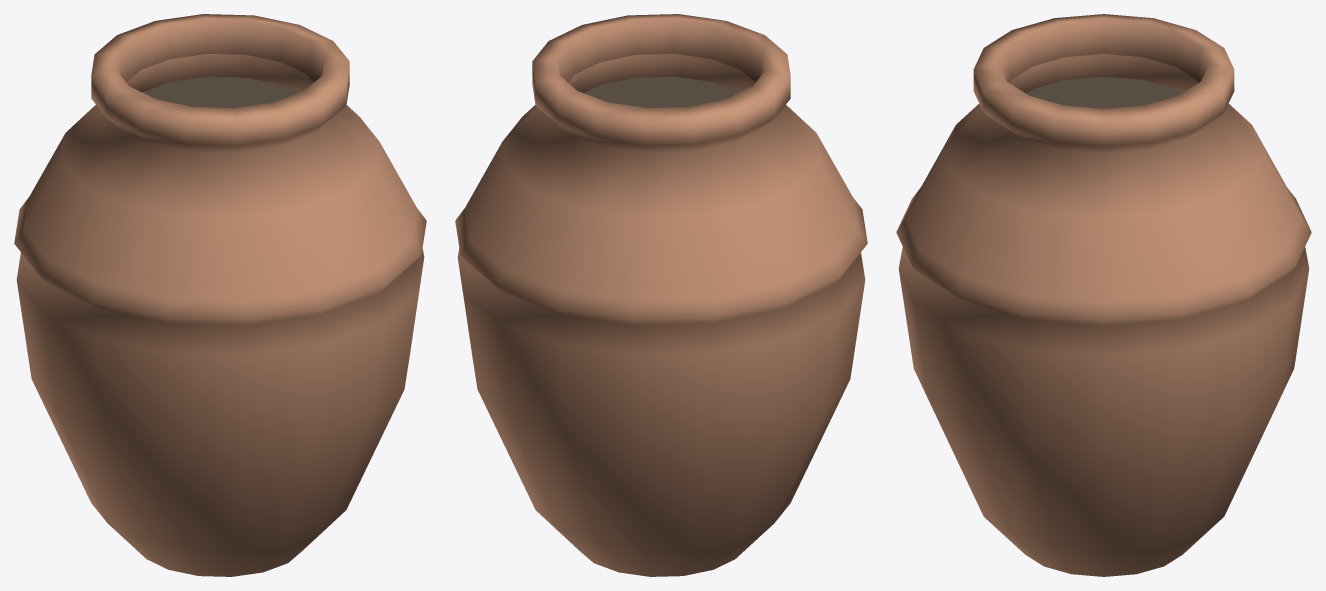
The model's file is SM_BM_BP_Orcio.glb.
The picture shows the model from 3 angles, left to right: view 1: azimuth 30°, elevation 25°; view 2: azimuth 150°, elevation 25°; view 3: azimuth 270°, elevation 25°; orthographic projection.
Parts seen in each view (by area): view 1: SM_BM_BP_Orcio; view 2: SM_BM_BP_Orcio; view 3: SM_BM_BP_Orcio.
Boxes of the visible parts, box(x1,y1,x2,y2) form: SM_BM_BP_Orcio: box(14, 14, 426, 576); SM_BM_BP_Orcio: box(455, 14, 867, 576); SM_BM_BP_Orcio: box(896, 14, 1311, 576).
Size of the model in its own units: 0.83 by 1.05 by 0.83.
